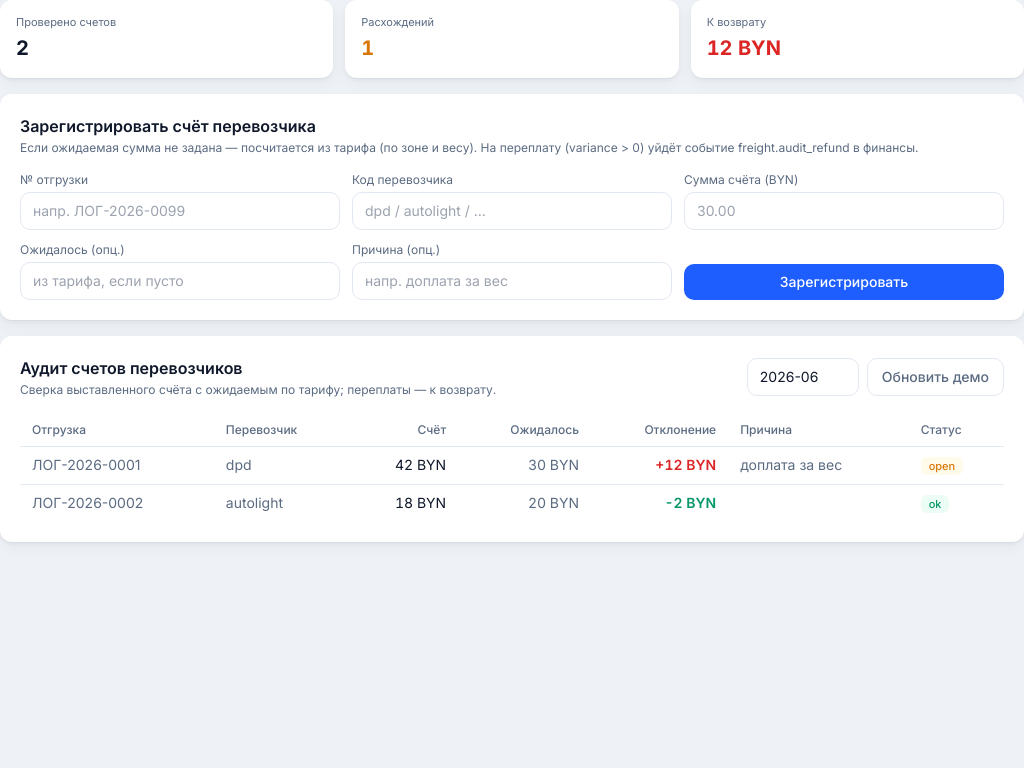
Scenario: LogisticsAudit › успешная регистрация: баннер с отклонением + пометкой финансов, перезагрузка отчёта, очистка формы
Check: the text "Проверено счетов" is shown, box [16,15,116,29]
Type "ЛОГ-2026-0099" into the field with placeholder "напр. ЛОГ-2026-0099" at (180, 211), box [20,192,340,230]
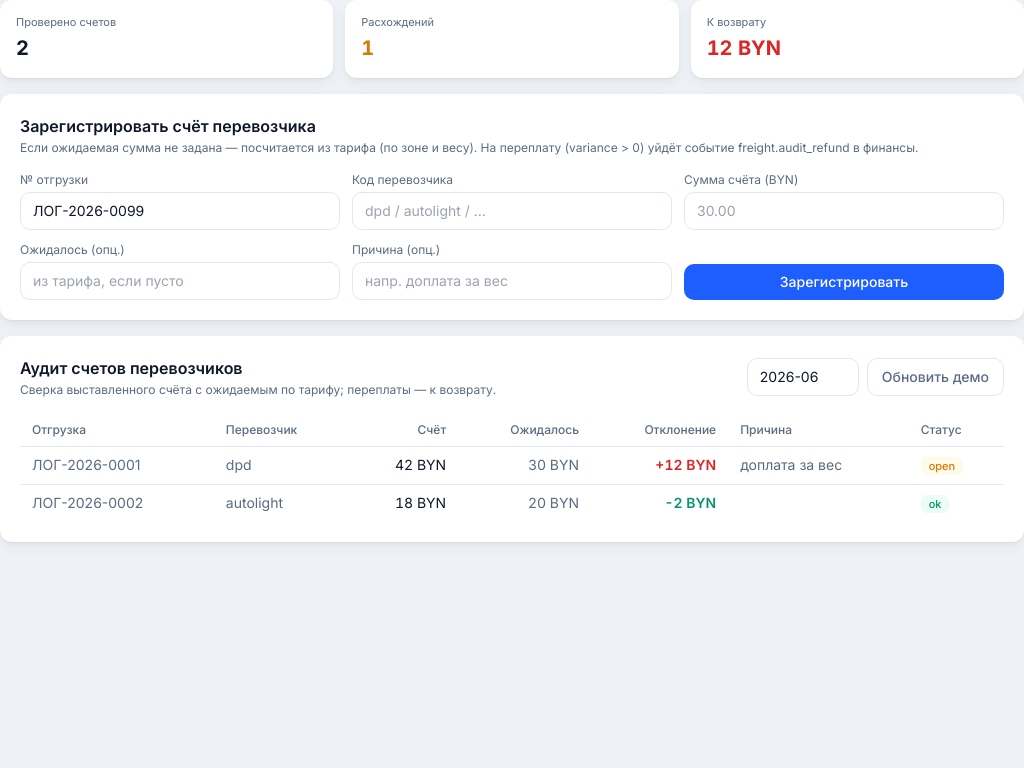
Type "dpd" into the field with placeholder "dpd / autolight / …" at (512, 211), box [352,192,672,230]
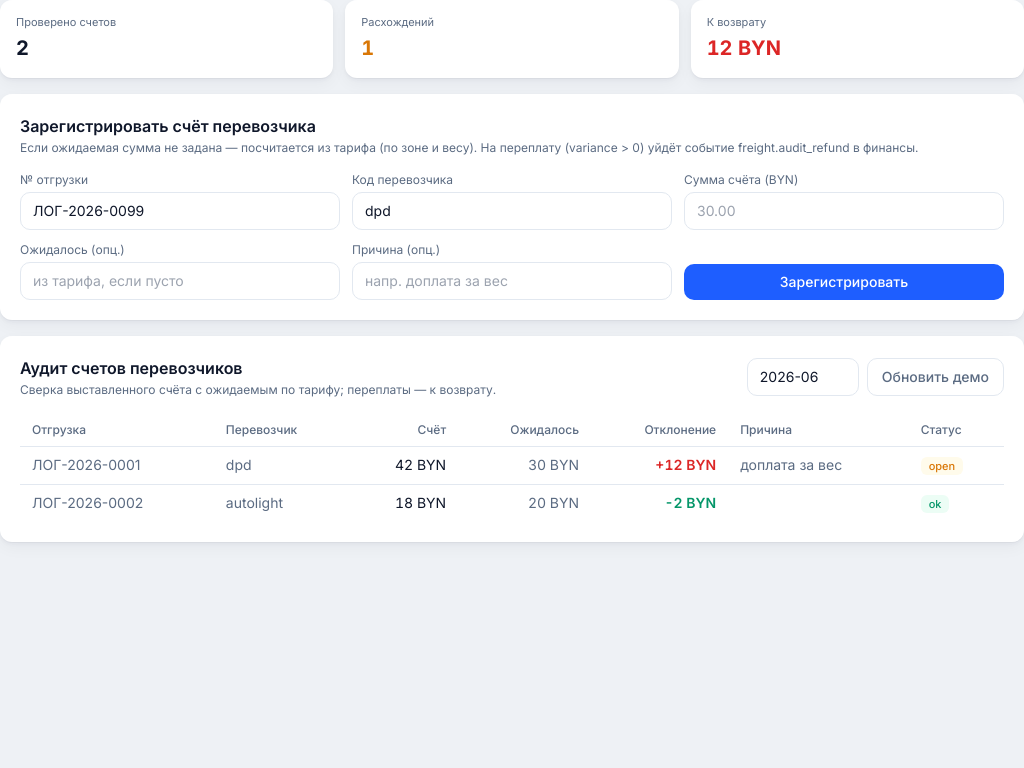
Type "35" into the number field with placeholder "30.00" at (844, 211), box [684,192,1004,230]
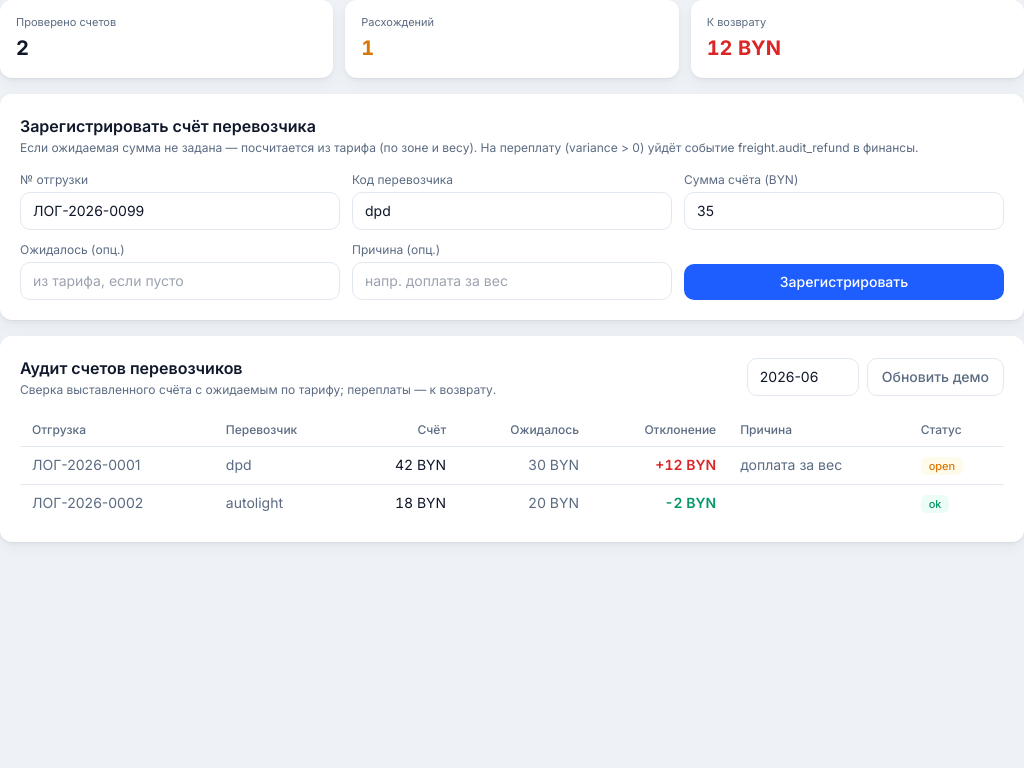
Click the button "Зарегистрировать" at (844, 282), box [684,264,1004,300]
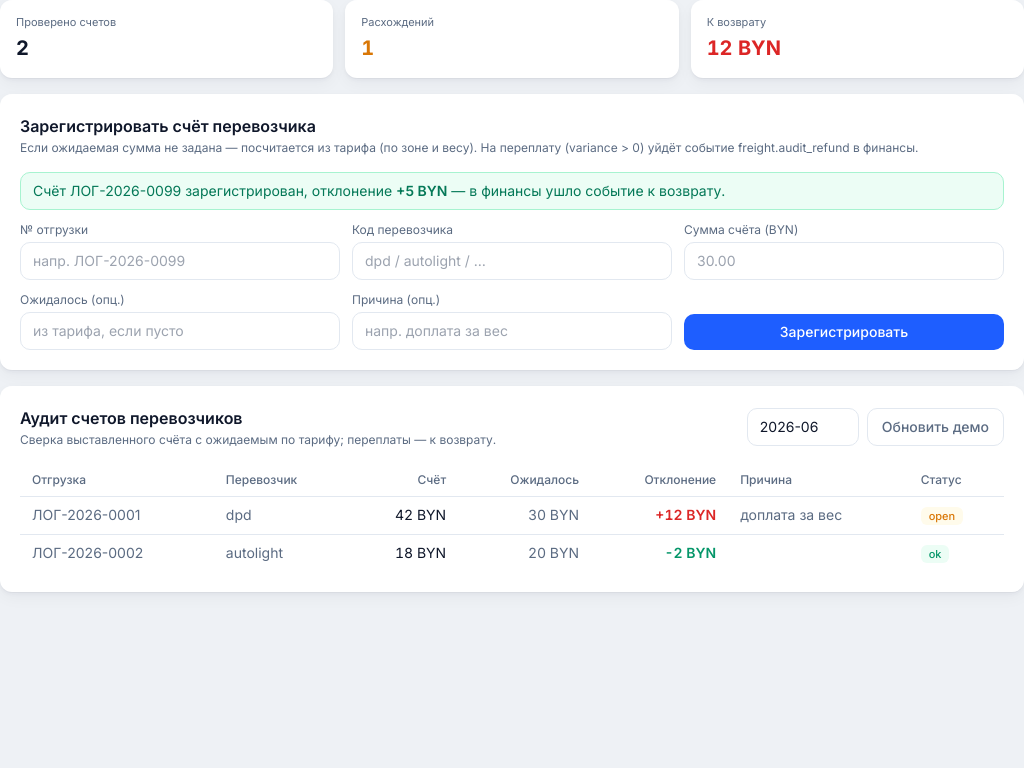
Check: the text "зарегистрирован, отклонение" is shown, box [181,182,392,199]
Check: the text "в финансы ушло событие к возврату" is shown, box [447,182,725,199]
Check: the field with placeholder "напр. ЛОГ-2026-0099" is empty, box [20,242,340,280]
